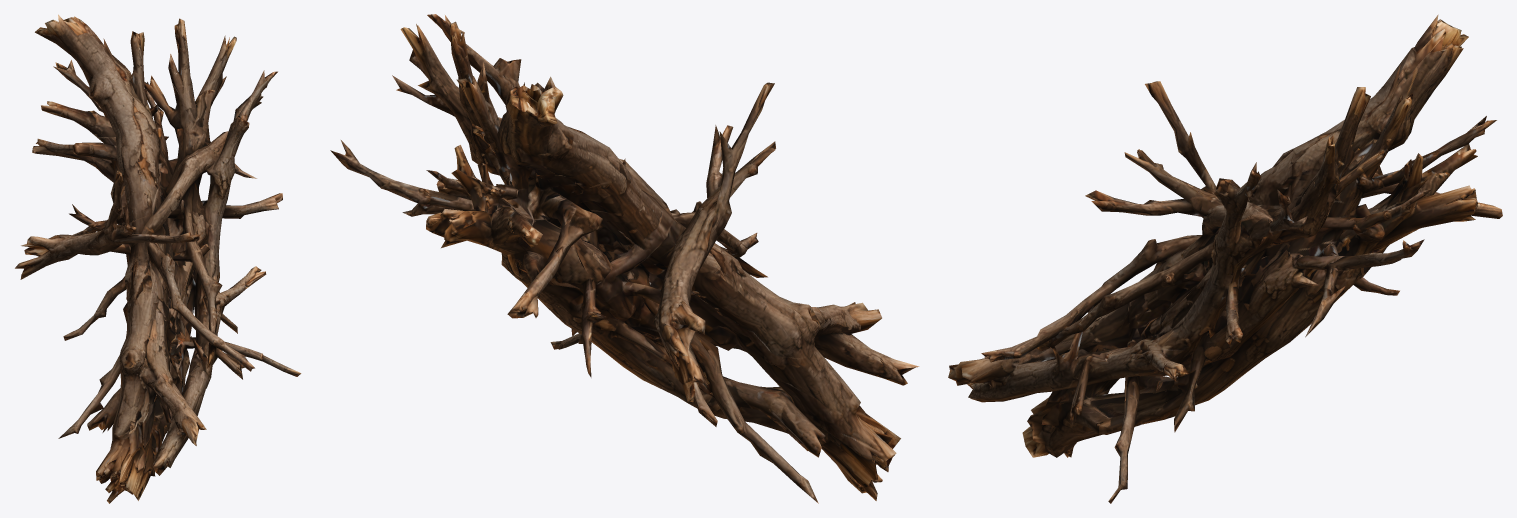
File: Branch.fbx
The picture shows the model from 3 angles, left to right: view 1: azimuth 30°, elevation 25°; view 2: azimuth 150°, elevation 25°; view 3: azimuth 270°, elevation 25°; orthographic projection. The views are drawn at different scales.
Parts seen in each view (by area): view 1: texture_mapping; view 2: texture_mapping; view 3: texture_mapping.
Part boxes in pixels (x1,y1,x2,y2): texture_mapping: (15, 14, 301, 503); texture_mapping: (330, 14, 919, 503); texture_mapping: (948, 14, 1502, 503).
Bounding box in the file's own units: 71.31 × 98.76 × 99.24.
1 material, 1 textured.
